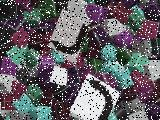Left: (70, 73, 121, 120)
Right: (48, 8, 90, 64)
